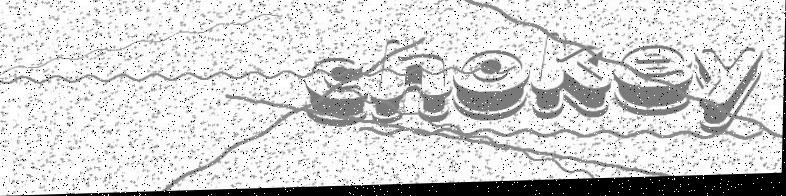c: (303, 49, 373, 129)
e: (613, 43, 695, 122)
h: (372, 40, 450, 124)
k: (532, 29, 613, 123)
o: (451, 48, 534, 125)
y: (691, 48, 765, 135)
